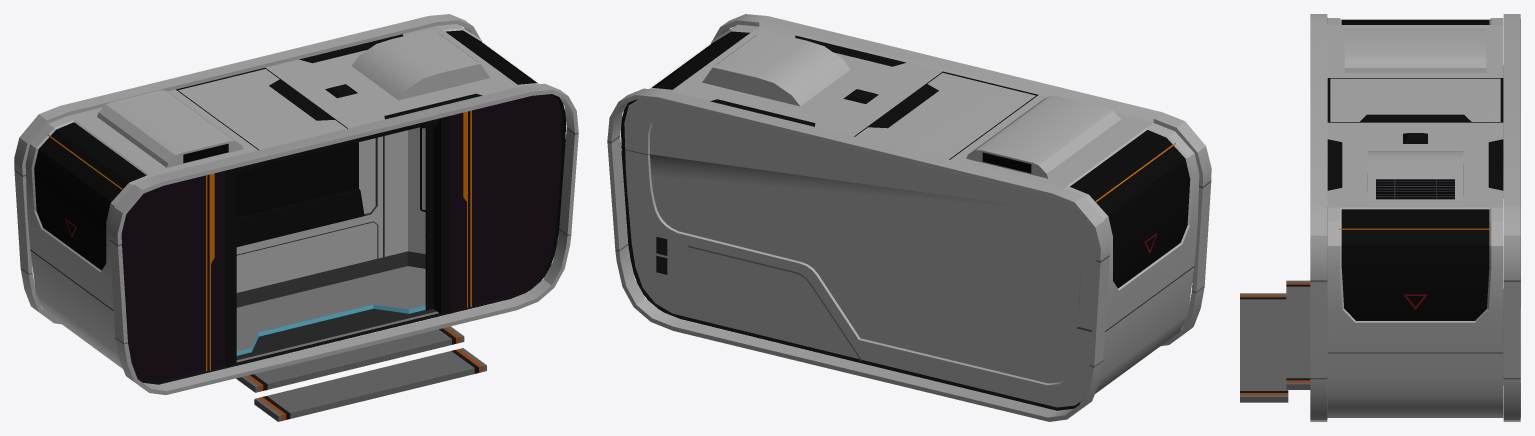
File: W_O_Mobilestore_001_L1.fbx
3 views of the same model, side by side, from view 1: azimuth 30°, elevation 25°; view 2: azimuth 150°, elevation 25°; view 3: azimuth 270°, elevation 25° (orthographic). The views are drawn at different scales.
Parts seen in each view (by area): view 1: W_O_Mobilestore_001_L1; view 2: W_O_Mobilestore_001_L1; view 3: W_O_Mobilestore_001_L1.
Part boxes in pixels (left/top/right/bottom): W_O_Mobilestore_001_L1: left=14, top=14, right=578, bottom=421; W_O_Mobilestore_001_L1: left=607, top=14, right=1211, bottom=421; W_O_Mobilestore_001_L1: left=1240, top=14, right=1520, bottom=421.
Size of the model in its own units: 6.8 by 3.49 by 3.53.
